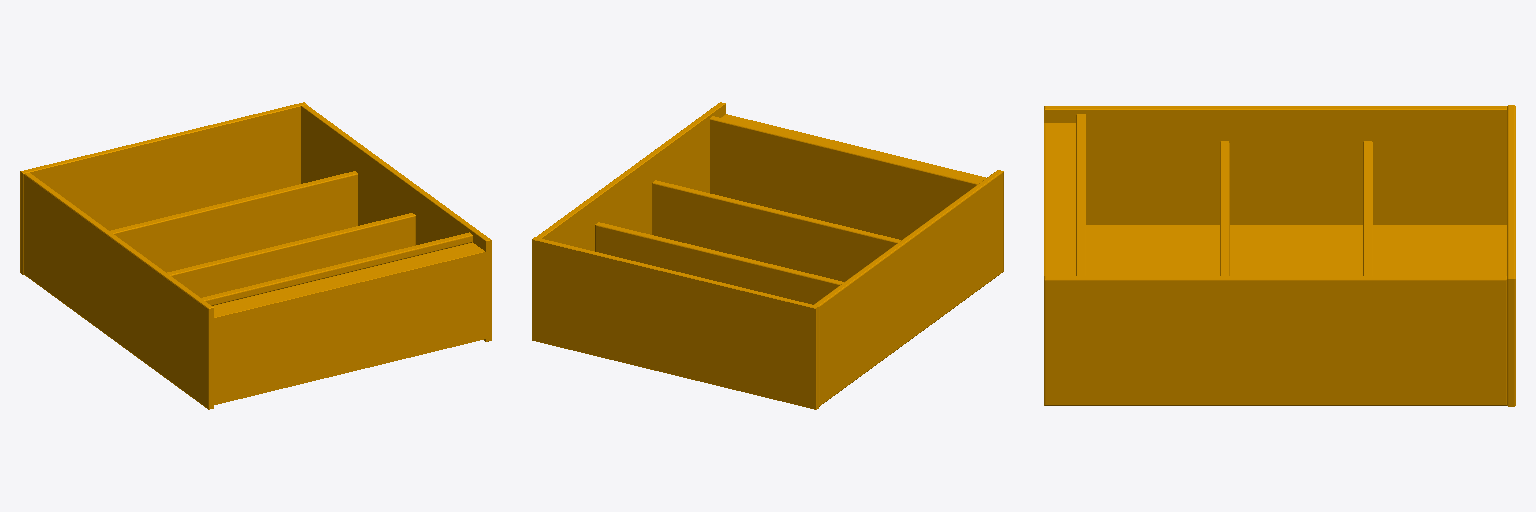
URDF robot description (shelf):
<?xml version="1.0" ?>
<robot name="shelf" >
  <link name="shelf">
    <inertial>
      <origin rpy="0 0 0" xyz="0 0 0"/>
       <mass value="4"/>
       <inertia ixx="0.1" ixy="0" ixz="0" iyy="0.1" iyz="0" izz="0.1"/>
    </inertial>
    <visual>
      <geometry>
        <mesh filename="shelf.obj" />
      </geometry>
    </visual>
    <collision>
      <geometry>
        <mesh filename="shelf.obj"/>
      </geometry>
    </collision>
  </link>
</robot>

--- Facts derived from the render (not from the file) ---
3 views of the same robot in one strip: view 1: azimuth 30°, elevation 25°; view 2: azimuth 150°, elevation 25°; view 3: azimuth 270°, elevation 25° (orthographic).
Robot: shelf — 1 links, 0 joints (none); root link shelf; default pose: all joints at 0.
Visible links, largest first — view 1: shelf; view 2: shelf; view 3: shelf.
Link boxes in pixels (x1,y1,x2,y2): shelf: (20,102,491,409); shelf: (532,102,1003,409); shelf: (1044,105,1515,406).
Size in the robot's own frame: 2.01 by 2.3 by 0.6882 metres.
1 mesh visuals loaded from 1 distinct referenced files (1 OBJ).